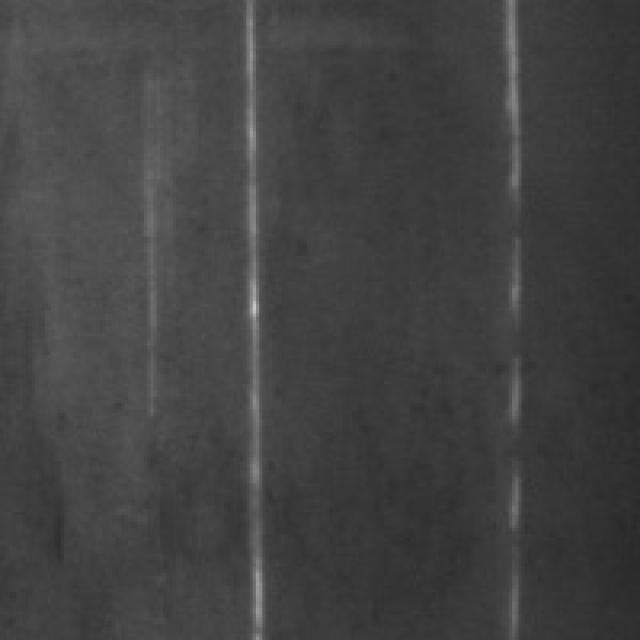scratches: (237, 0, 282, 630), (500, 0, 538, 630)
